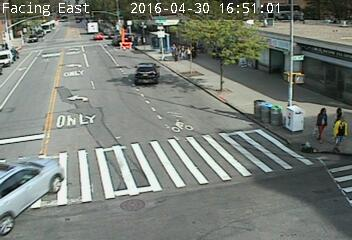neg: (150, 148, 176, 183), (199, 95, 225, 130), (292, 187, 315, 218), (18, 29, 38, 56), (265, 20, 285, 46), (241, 188, 258, 212), (61, 20, 77, 42), (133, 71, 146, 88), (118, 38, 130, 54), (46, 151, 57, 166), (223, 17, 234, 32), (96, 60, 106, 73), (52, 97, 62, 109), (24, 80, 31, 90)
pos: (306, 105, 334, 142), (324, 115, 351, 153), (328, 105, 349, 134), (171, 46, 183, 61), (181, 43, 193, 58), (170, 41, 181, 55)
